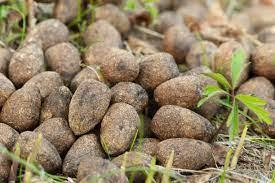Elk: (0, 45, 201, 158)
